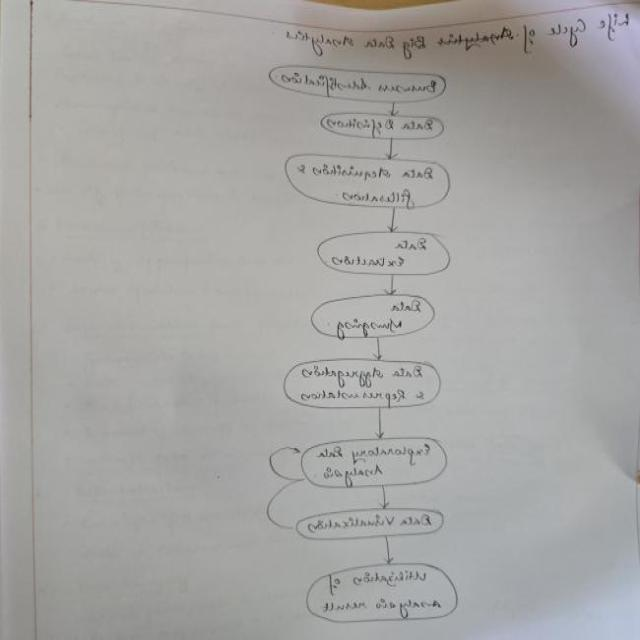Figure Detection - v3 Dataset Version2: (223, 59, 500, 640)
